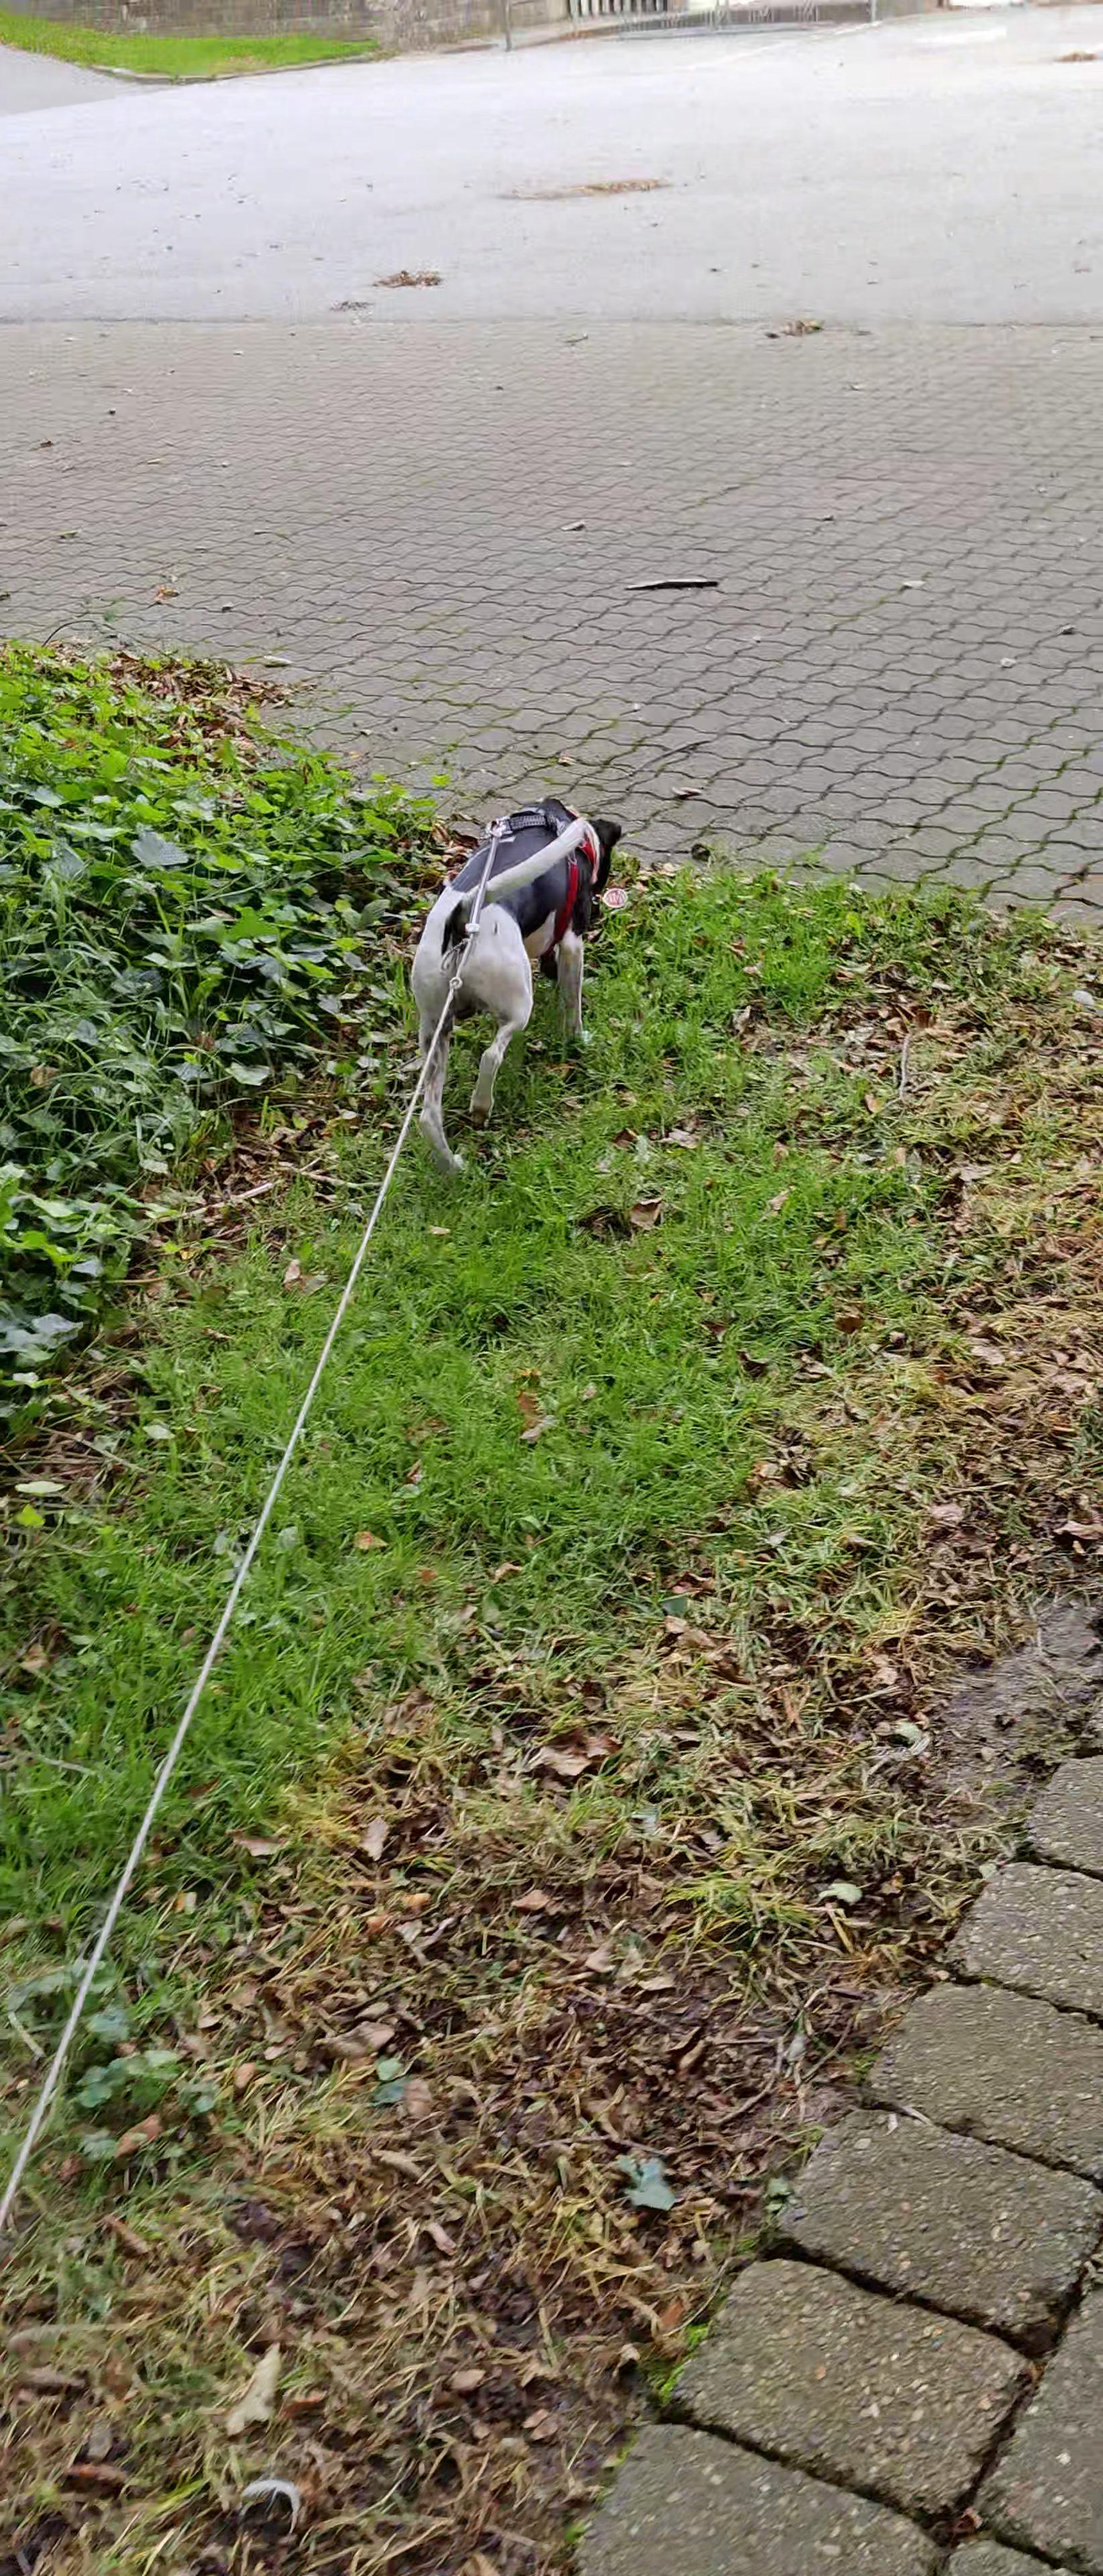Dog: (398, 789, 644, 1180)
